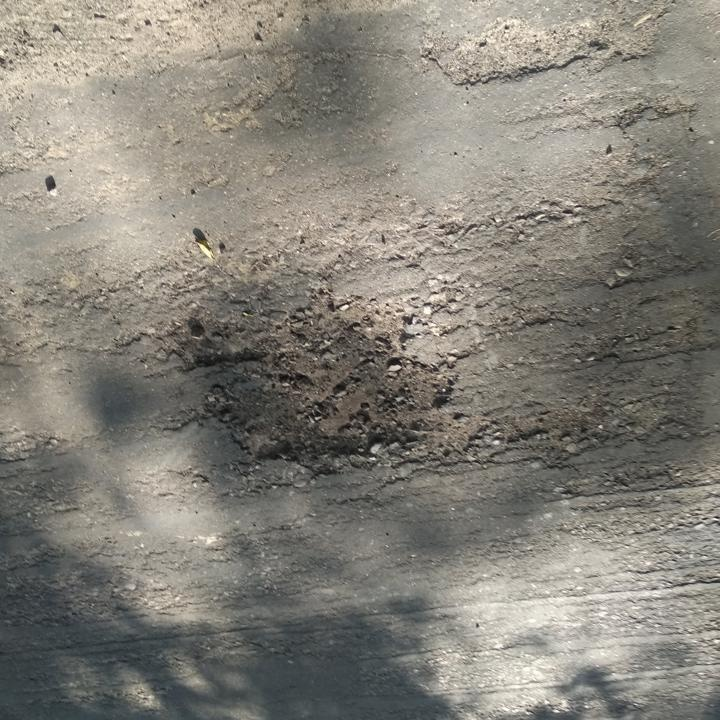pothole: (191, 296, 462, 471), (434, 15, 602, 92)
